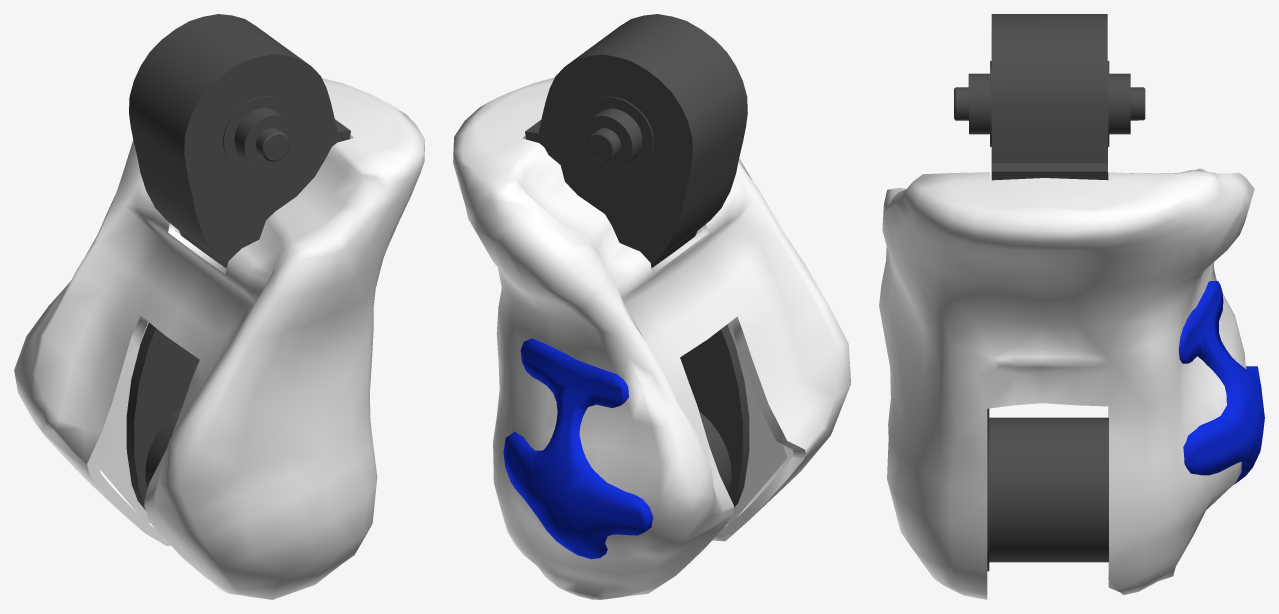
File: LKneePitch.dae
3 views of the same model, side by side, from view 1: azimuth 30°, elevation 25°; view 2: azimuth 150°, elevation 25°; view 3: azimuth 270°, elevation 25° (orthographic). The views are drawn at different scales.
Parts seen in each view (by area): view 1: LKneePitch; view 2: LKneePitch; view 3: LKneePitch.
Part boxes in pixels (x1,y1,x2,y2): LKneePitch: [14, 14, 424, 599]; LKneePitch: [453, 14, 850, 599]; LKneePitch: [879, 14, 1264, 599].
Bounding box in the file's own units: 0.0897 × 0.0933 × 0.1475.
Materials: 1 (1 with a texture image).
